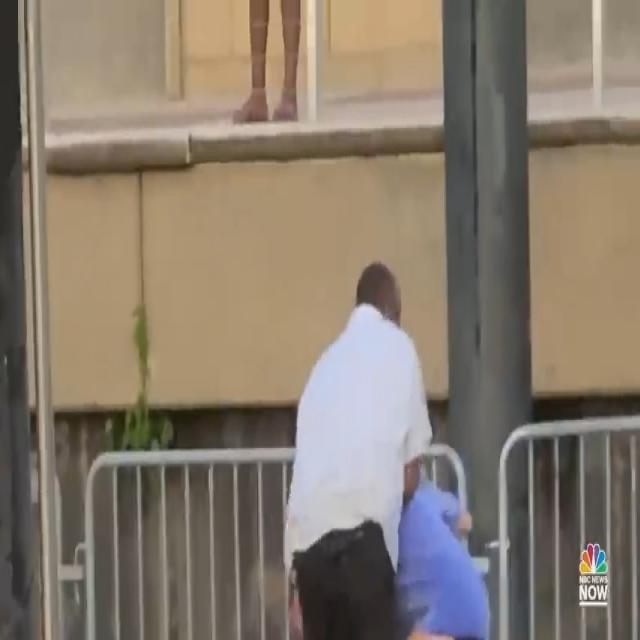fight: (260, 243, 498, 640)
